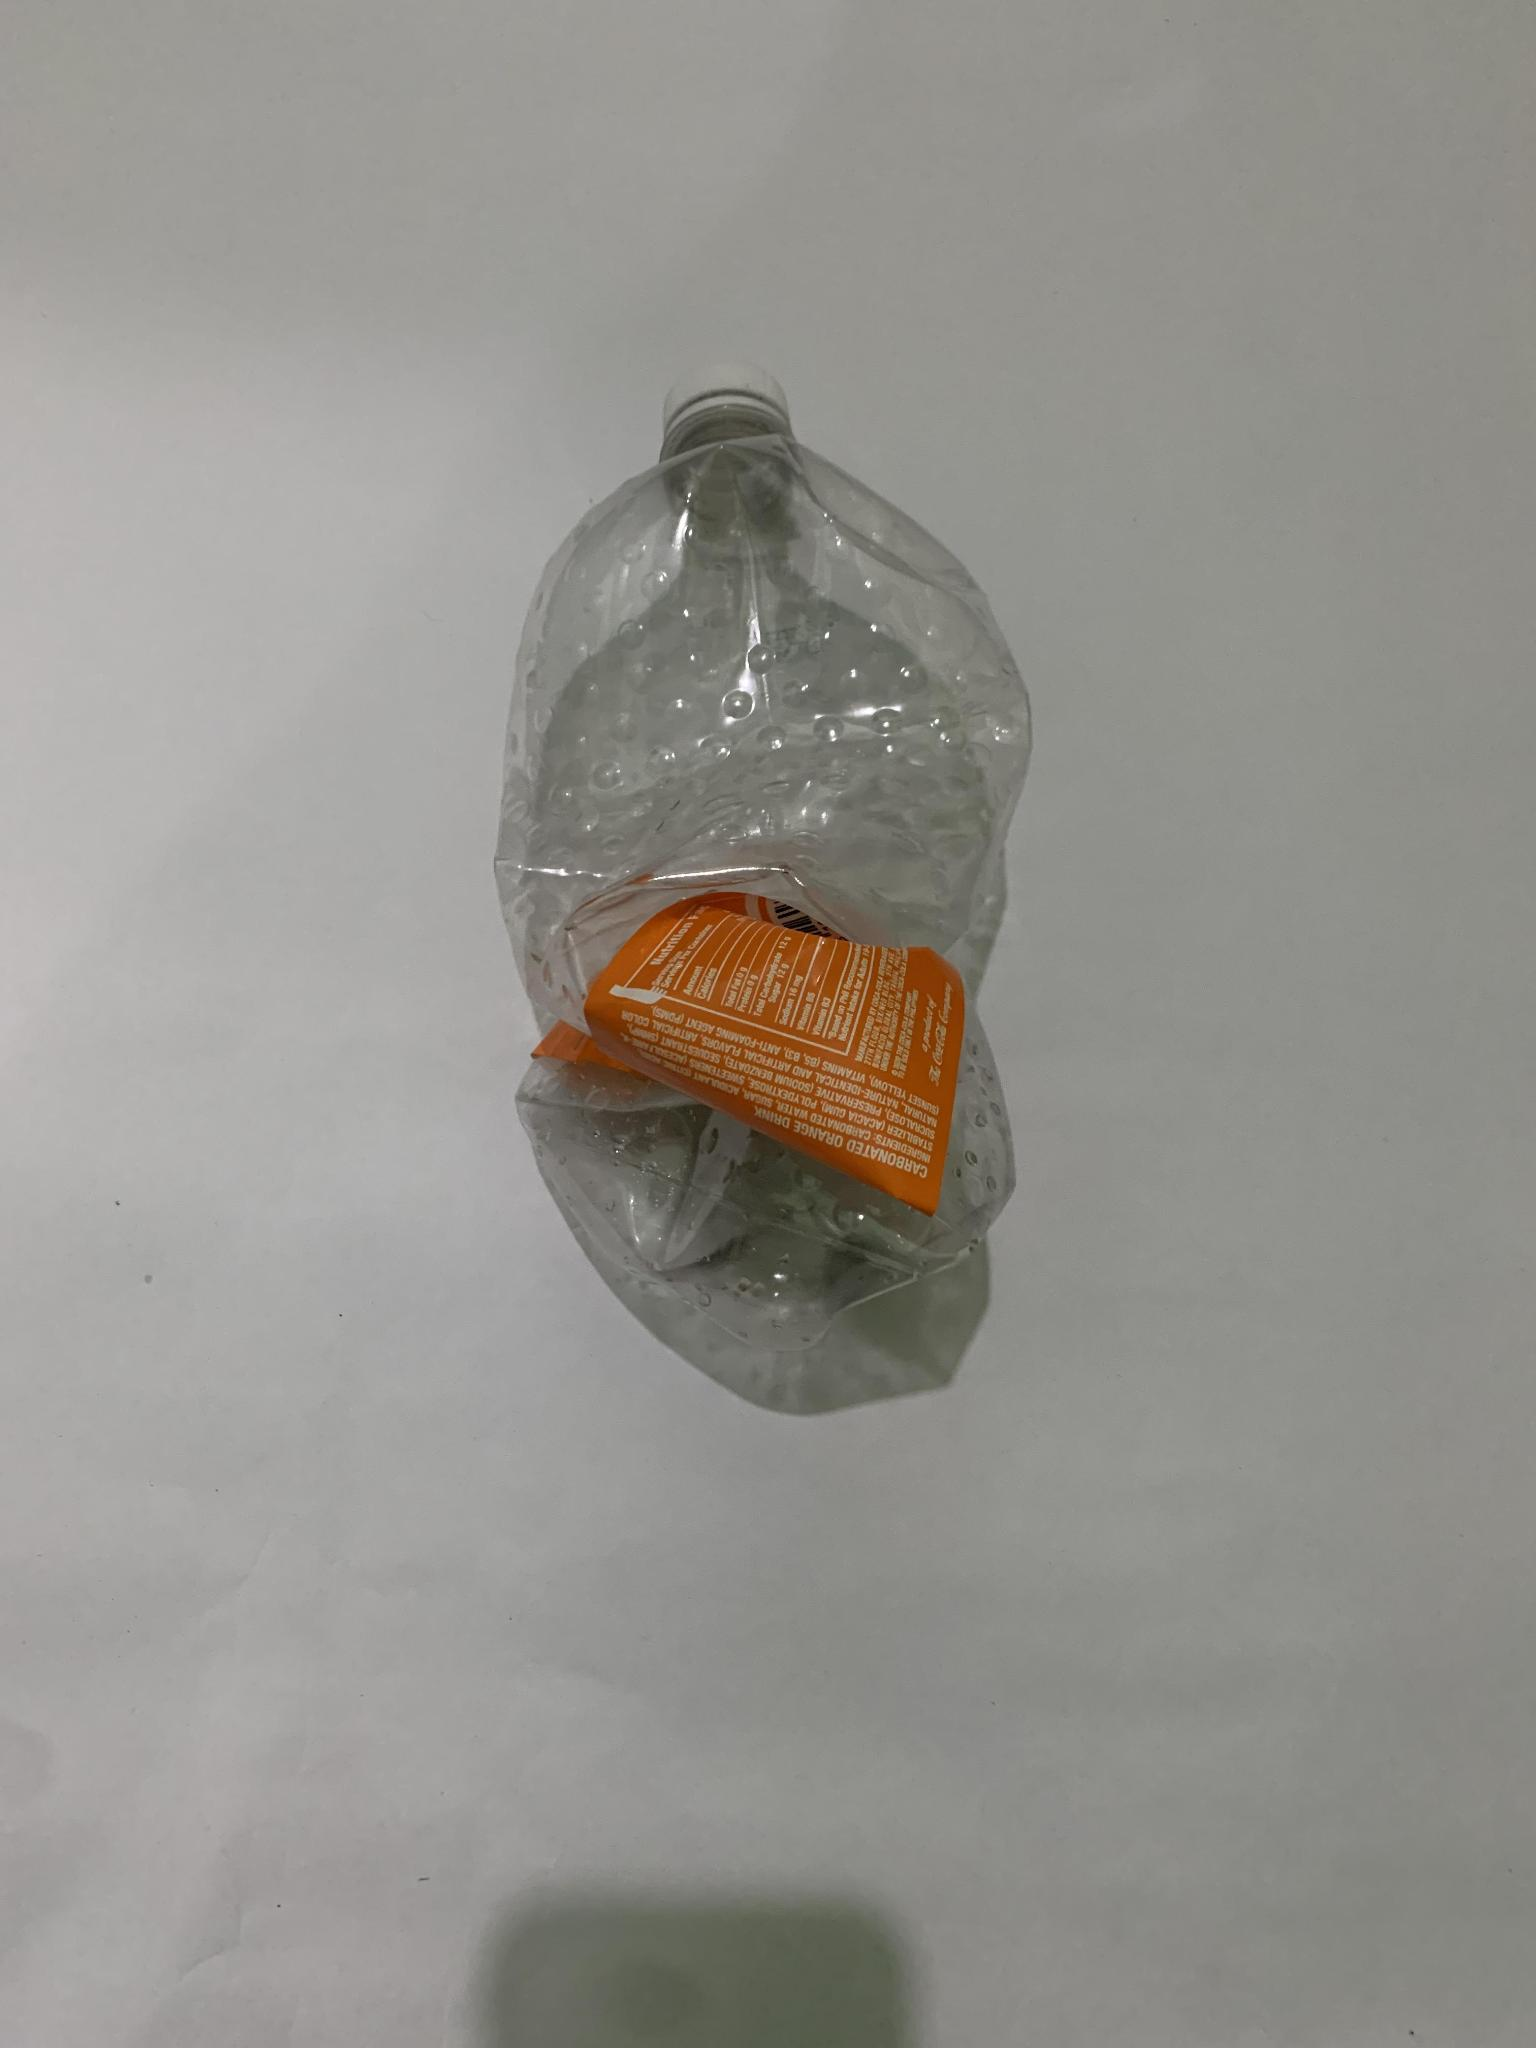bottle: (482, 347, 1046, 1326)
